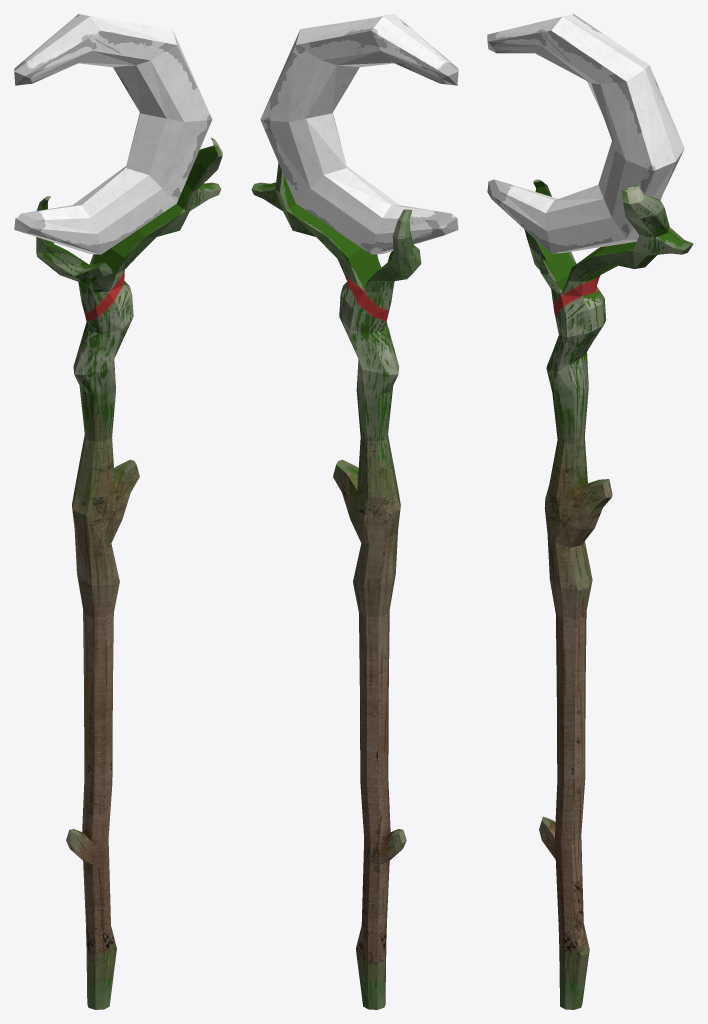
The model's file is Moonlight Wand.fbx.
3 views of the same model, side by side, from view 1: azimuth 30°, elevation 25°; view 2: azimuth 150°, elevation 25°; view 3: azimuth 330°, elevation 25° (orthographic).
Visible parts, largest first — view 1: Moonlight_Wand; view 2: Moonlight_Wand; view 3: Moonlight_Wand.
Boxes of the visible parts, bbox=[...] form: Moonlight_Wand: bbox=[14, 14, 222, 1009]; Moonlight_Wand: bbox=[251, 14, 458, 1009]; Moonlight_Wand: bbox=[487, 14, 693, 1009].
Size of the model in its own units: 75.2 by 349 by 33.06.
